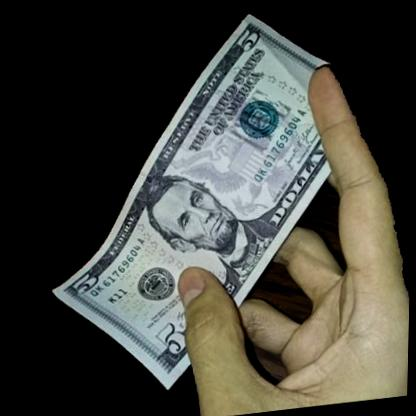dollar_front: (25, 0, 372, 395)
